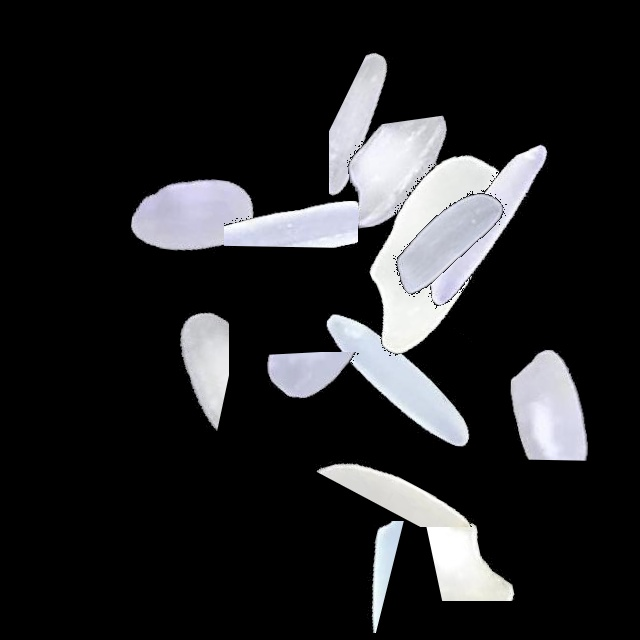Broken: (292, 125, 542, 297), (464, 250, 633, 500), (319, 81, 487, 331), (329, 22, 470, 272), (95, 238, 229, 488), (224, 55, 358, 305), (197, 352, 447, 475), (309, 414, 559, 527), (206, 521, 456, 633), (360, 494, 610, 601), (314, 325, 564, 400)
Full: (66, 88, 316, 338), (274, 254, 524, 504), (314, 124, 564, 374), (365, 98, 615, 348)
